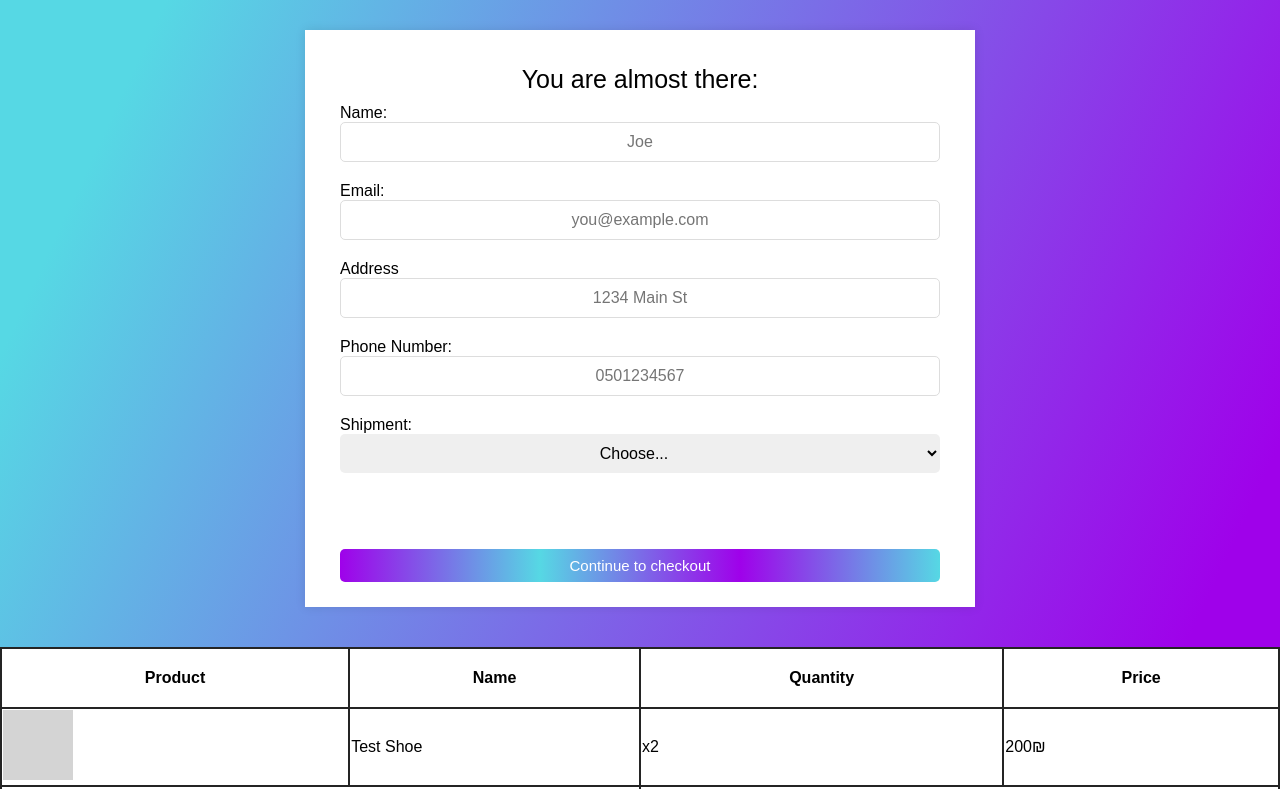
Test: quick shipment adds 20₪ to total
Select "Quick shipment: (3-7 business days) 20₪" in the dropdown labelled "Shipment:" at (640, 454), box 340,434 -> 940,473
(page scrolled)
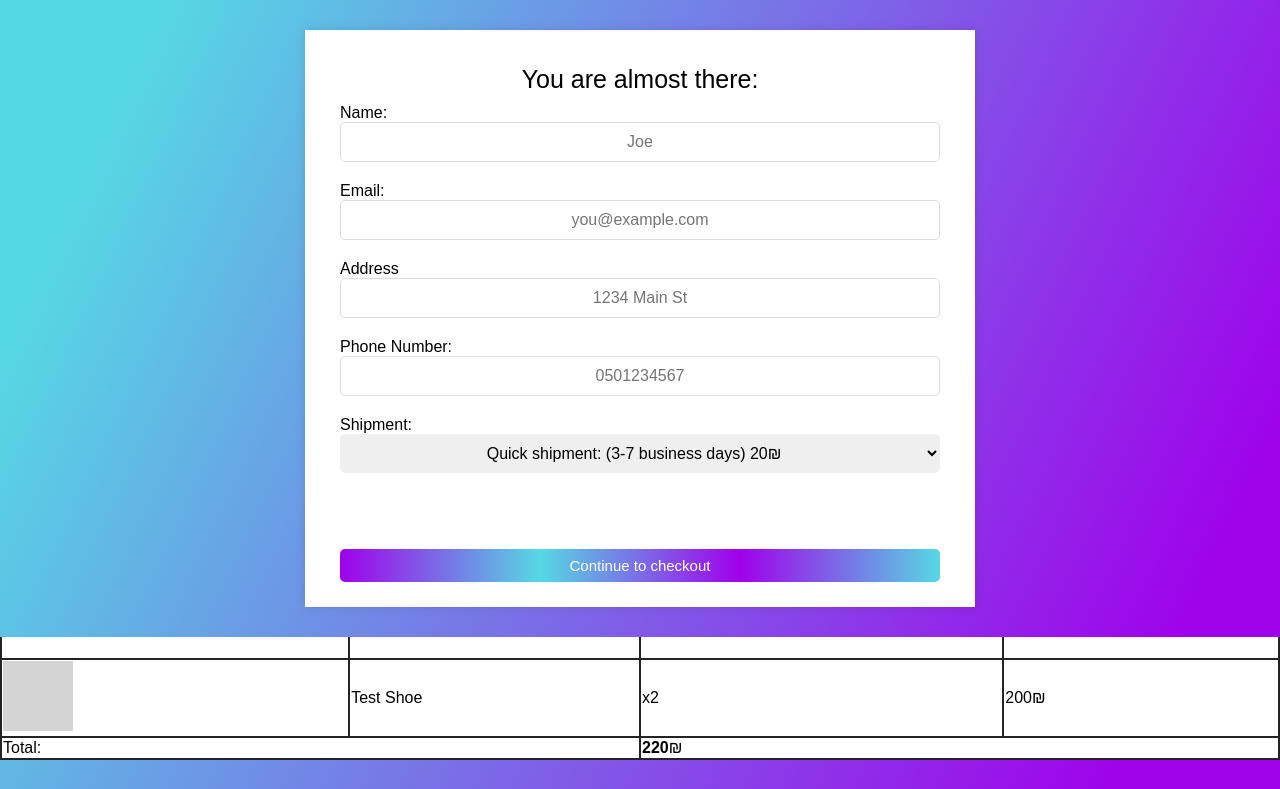
Now the text "220" is shown, box 642,739 -> 669,756
